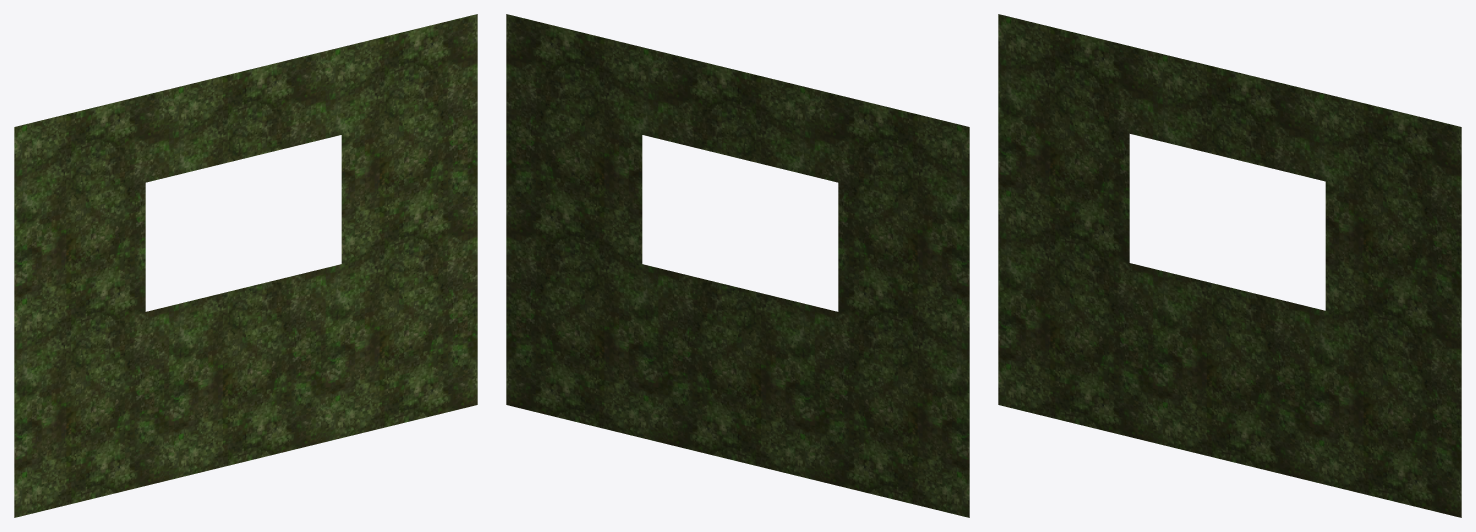
File: OVERHILL_A_01_OBJECT124.fbx
3 renders of one model, left to right at view 1: azimuth 30°, elevation 25°; view 2: azimuth 150°, elevation 25°; view 3: azimuth 330°, elevation 25°, orthographic.
Parts seen in each view (by area): view 1: OVERHILL_A_01_OBJECT124; view 2: OVERHILL_A_01_OBJECT124; view 3: OVERHILL_A_01_OBJECT124.
Boxes of the visible parts, box(x1,y1,x2,y2) form: OVERHILL_A_01_OBJECT124: box(14, 14, 477, 517); OVERHILL_A_01_OBJECT124: box(506, 14, 969, 517); OVERHILL_A_01_OBJECT124: box(998, 14, 1461, 517).
Bounding box in the file's own units: 88713 × 71550 × 0.0117.
1 material, 1 textured.
